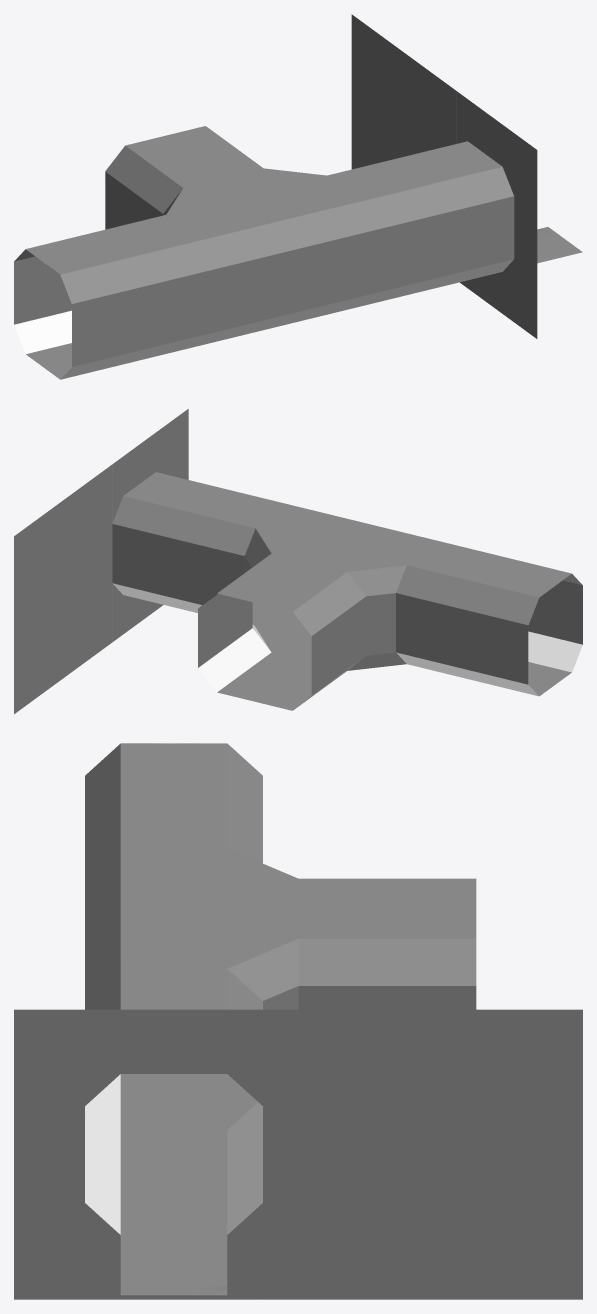
The model's file is T_Section.fbx.
3 views of the same model, one above another, from view 1: azimuth 30°, elevation 25°; view 2: azimuth 150°, elevation 25°; view 3: azimuth 270°, elevation 25° (orthographic). The views are drawn at different scales.
Visible parts, largest first — view 1: T_Section; view 2: T_Section; view 3: T_Section.
Part boxes in pixels (<box>): T_Section: <box>14,14,582,379</box>; T_Section: <box>14,409,582,713</box>; T_Section: <box>14,743,582,1299</box>.
Size of the model in its own units: 2600 by 900 by 1600.
Materials: 1 (1 with a texture image).
